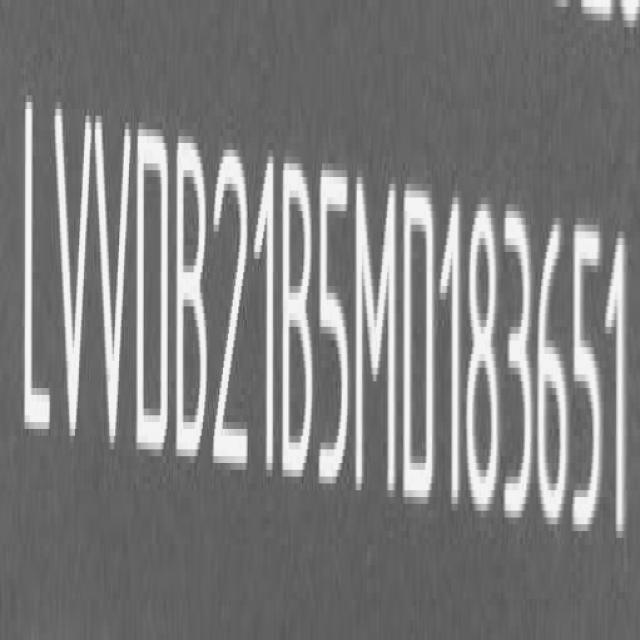1: (439, 183, 462, 513), (257, 145, 279, 482), (610, 224, 631, 552)
2: (213, 145, 251, 484)
3: (505, 202, 535, 529)
5: (317, 155, 353, 494), (572, 215, 604, 538)
6: (538, 215, 572, 538)
8: (466, 196, 500, 520)
B: (176, 128, 213, 472), (283, 151, 318, 490)
D: (134, 114, 170, 464), (403, 174, 437, 512)
L: (17, 86, 52, 452)
M: (353, 165, 399, 502)
V: (51, 99, 93, 452), (96, 100, 133, 458)
